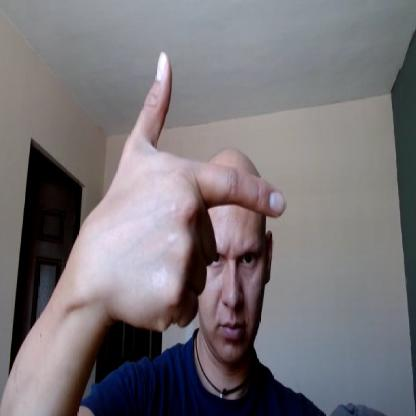G: (97, 48, 286, 332)
